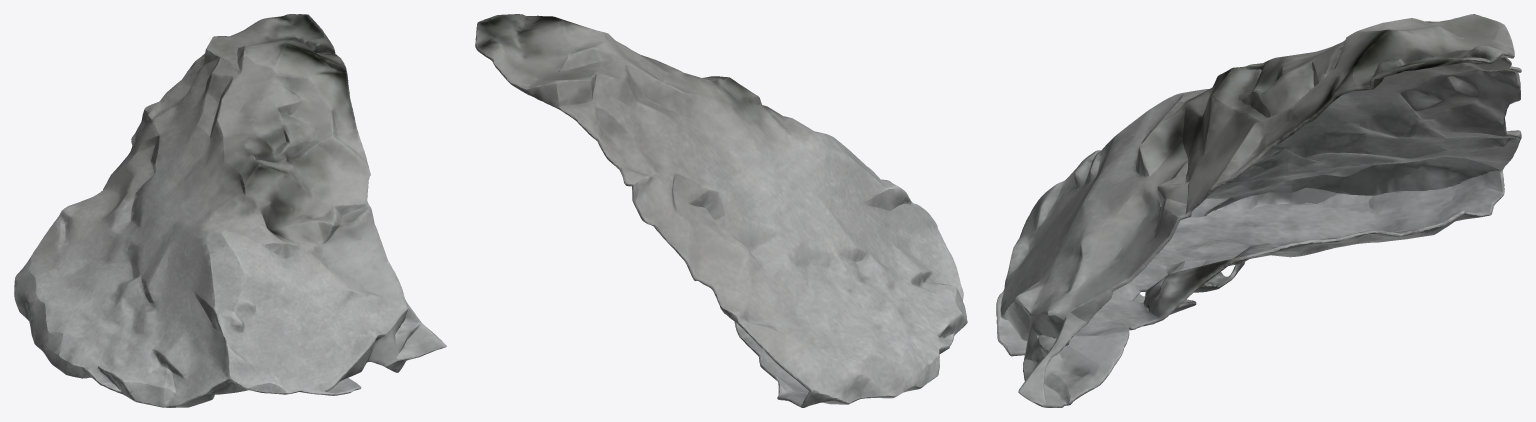
3 renders of one model, left to right at view 1: azimuth 30°, elevation 25°; view 2: azimuth 150°, elevation 25°; view 3: azimuth 270°, elevation 25°, orthographic. The views are drawn at different scales.
Parts seen in each view (by area): view 1: world; view 2: world; view 3: world.
Boxes of the visible parts, left/top/right/bottom form: world: left=14, top=14, right=446, bottom=407; world: left=475, top=14, right=967, bottom=407; world: left=996, top=14, right=1521, bottom=407.
Bounding box in the file's own units: 0.32 × 0.2483 × 0.3196.
Materials: 1 (1 with a texture image).
